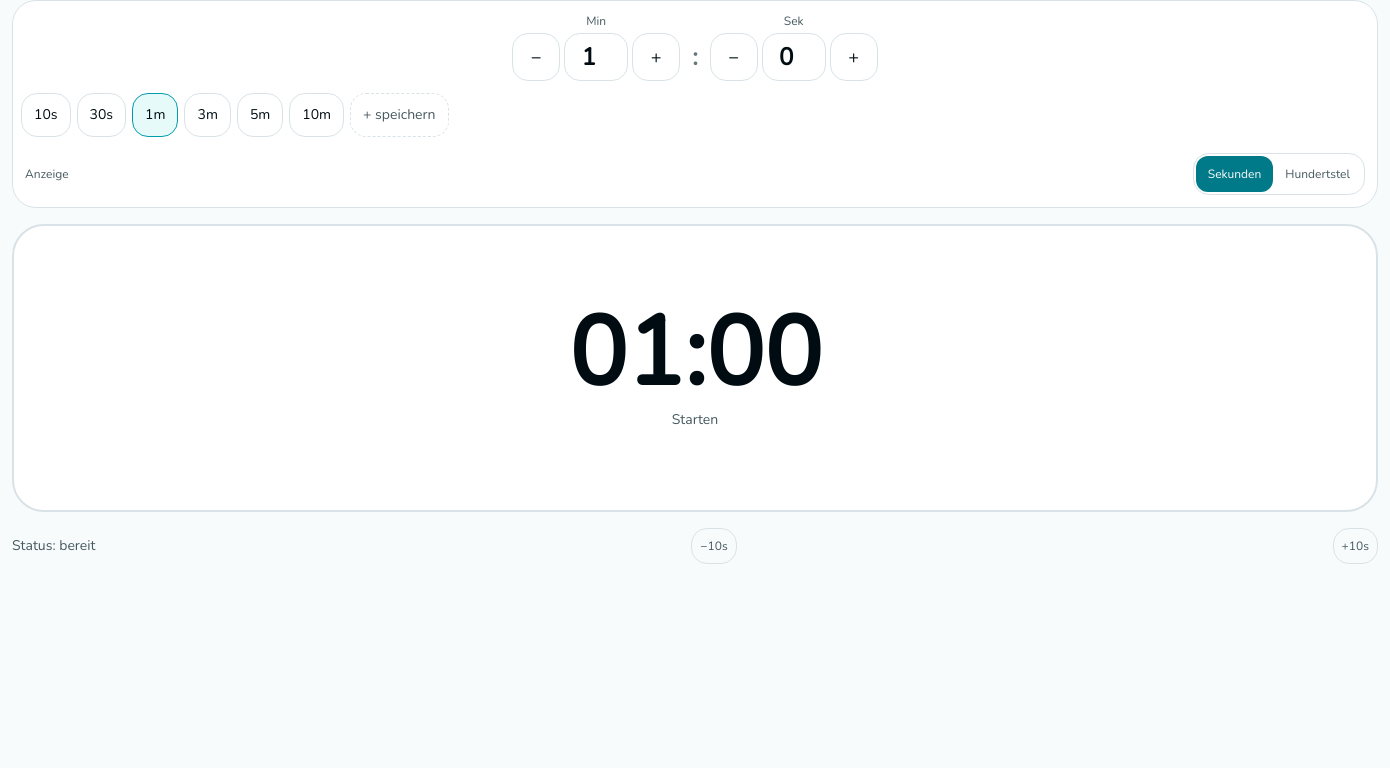
Test: ClickerTimer › switches to the continuous (hundredths) display mode
The image size is (1390, 768).
Click the button with aria-label "Hundertstel-Sekunden": coordinates (1318, 174) [1273,156,1362,192]
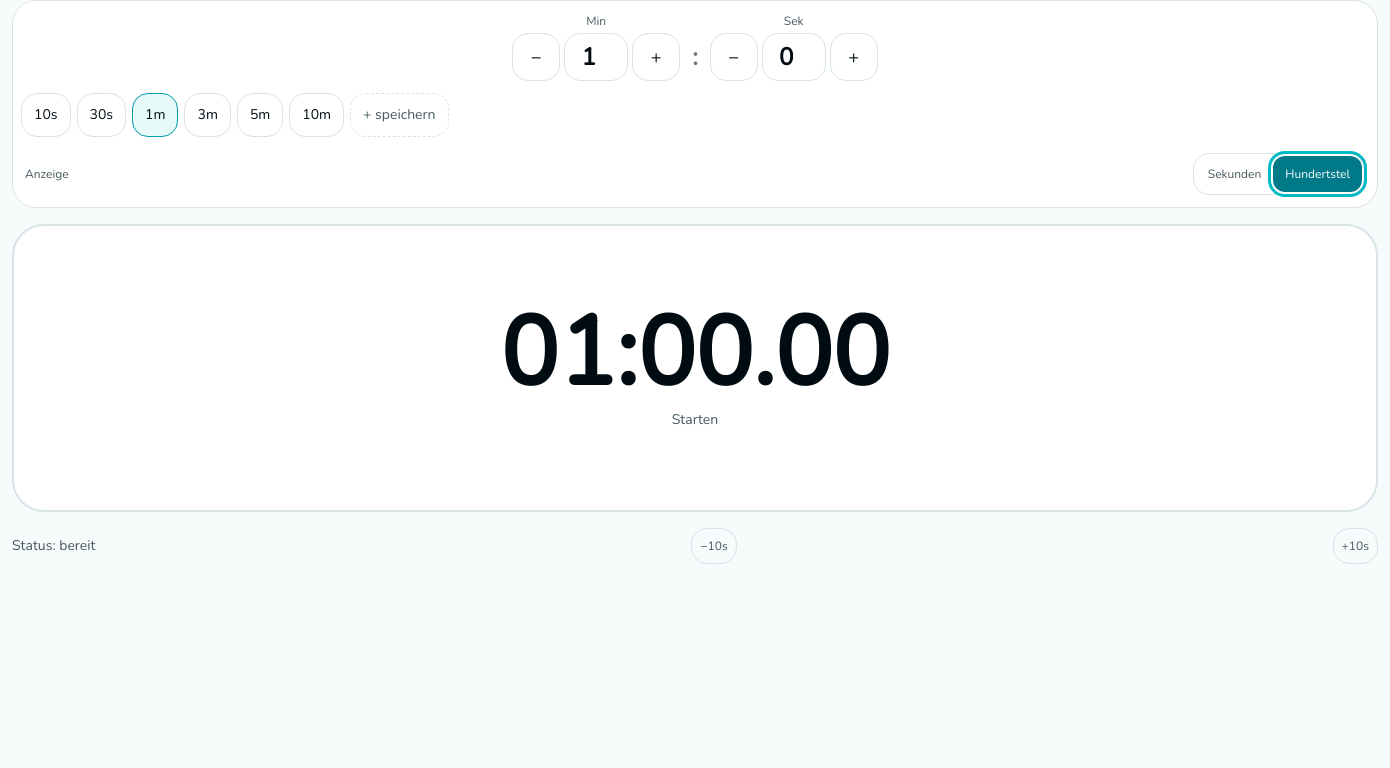
Now the picture named "01:00.00 verbleibend" reads "01:00.00", box [500,288,890,419]
